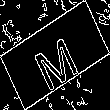M_NW: (28, 22, 82, 88)
